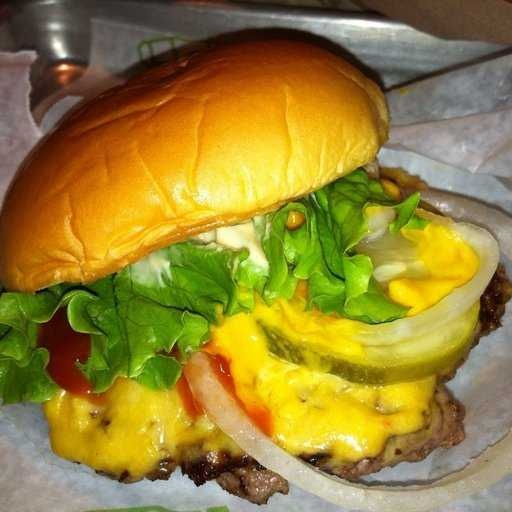hamburger: (1, 14, 490, 459)
